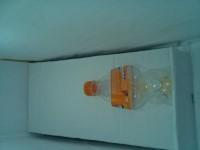bottle: (80, 69, 172, 112)
